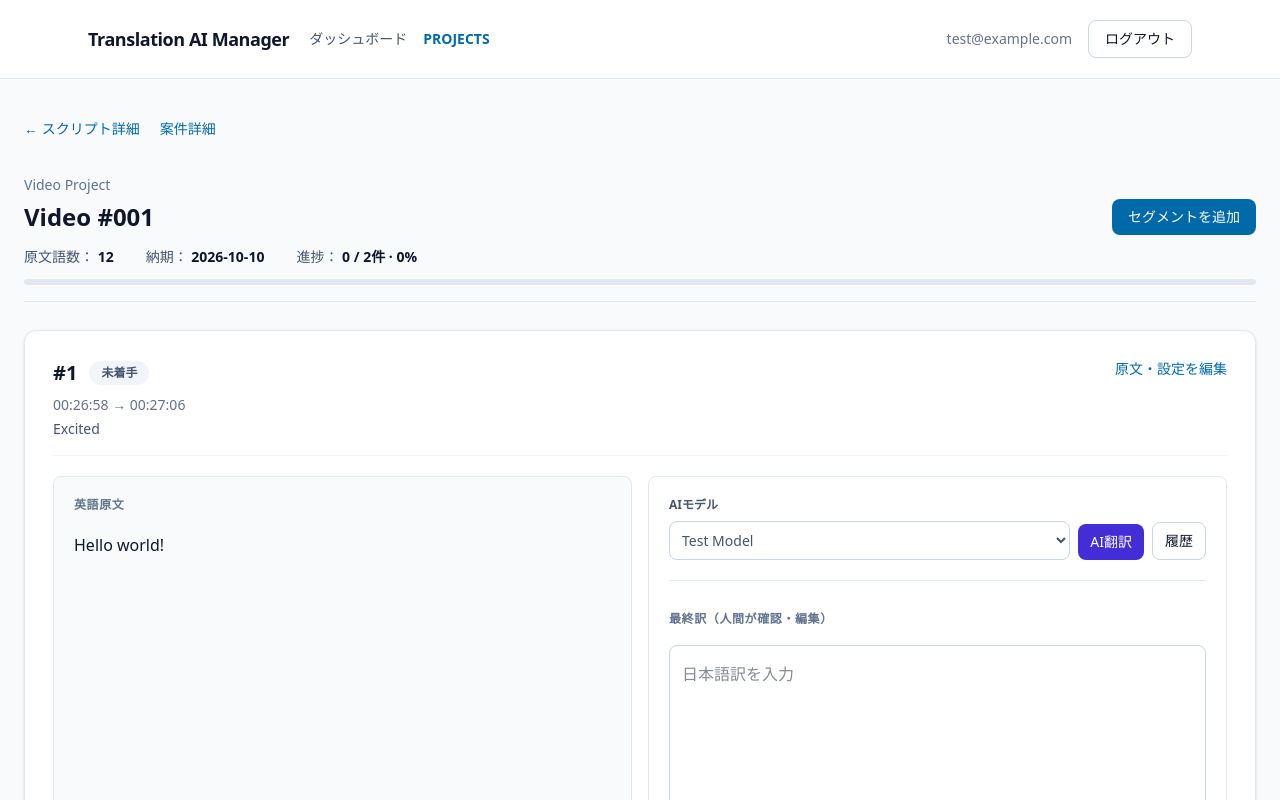
Scenario: prevents duplicate generation and saves while generating
Click the button "AI翻訳".
click(1111, 542)  # box [1078,524,1144,560]
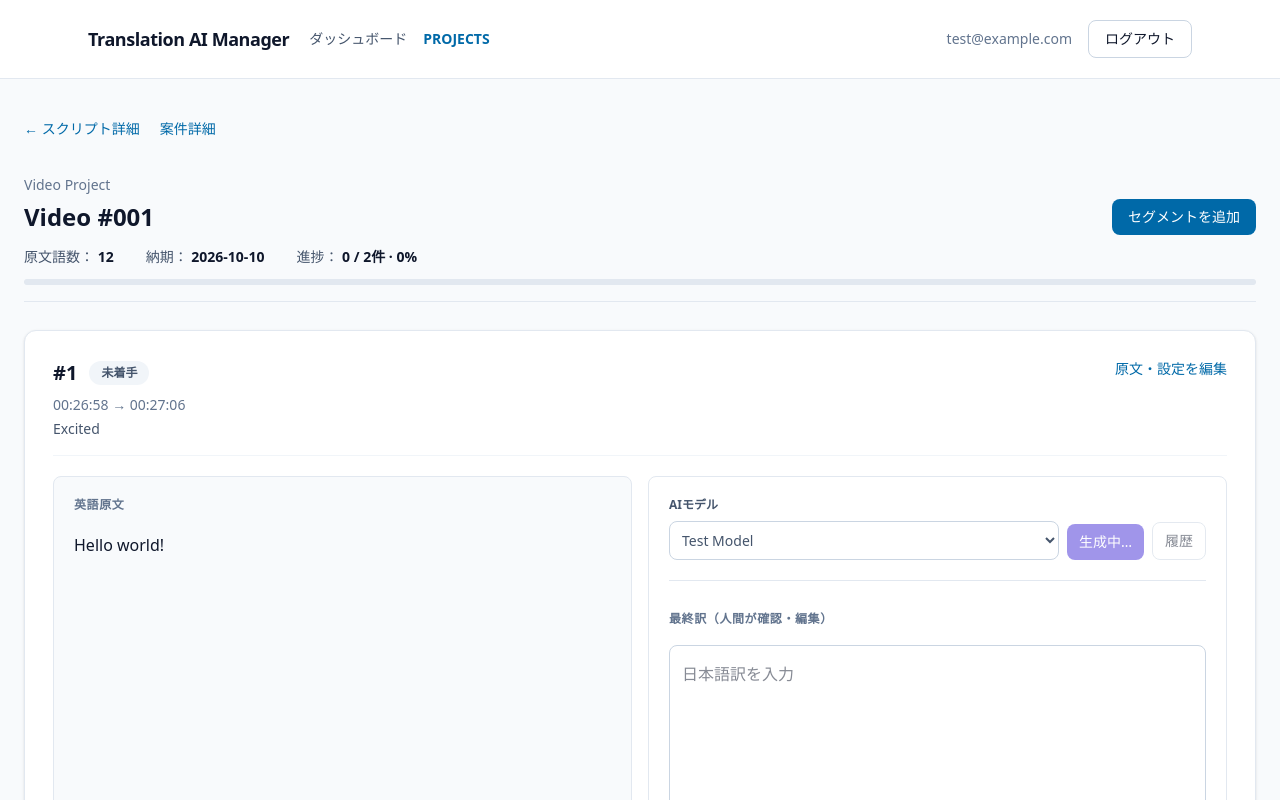
Expected: the button "生成中…" is disabled
Click the button "生成中…".
click(1105, 542)  # box [1067,524,1144,560]
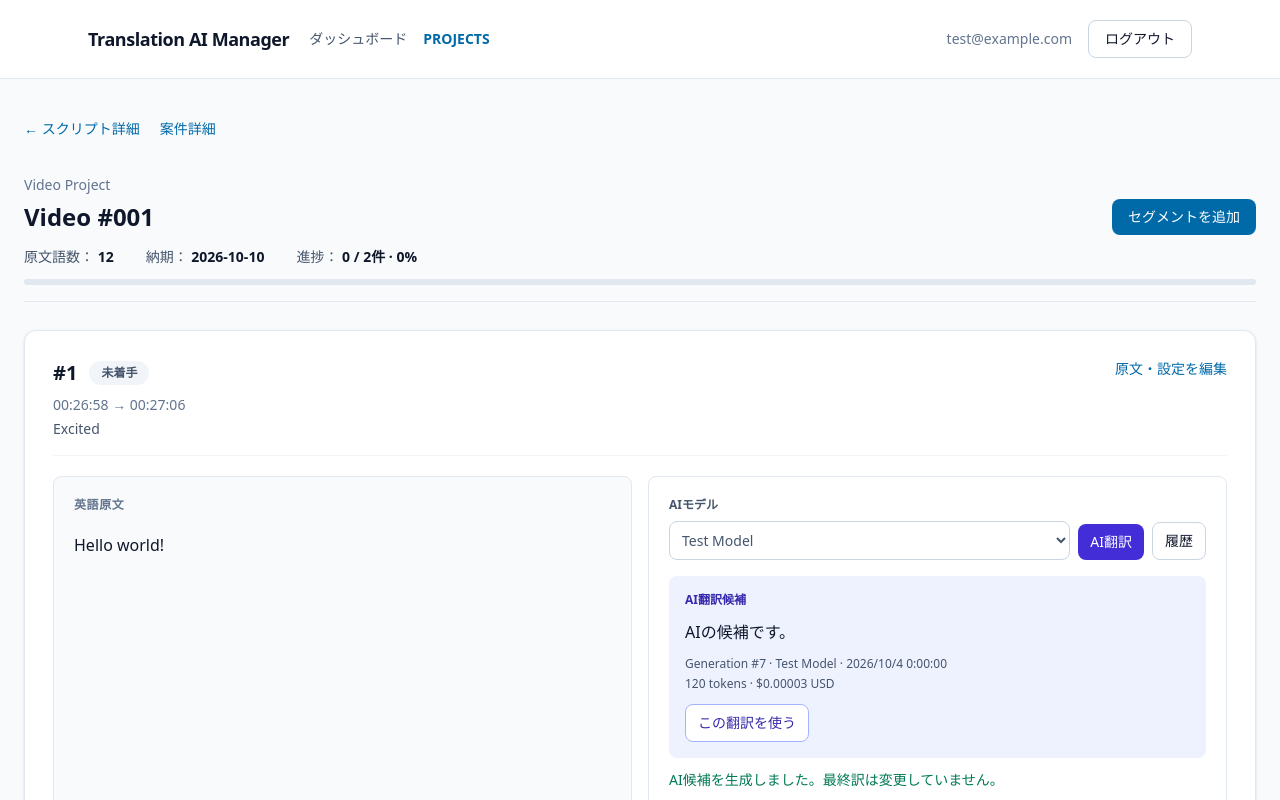
Expected: the button "AI翻訳" is enabled, [1078,524,1144,560]
